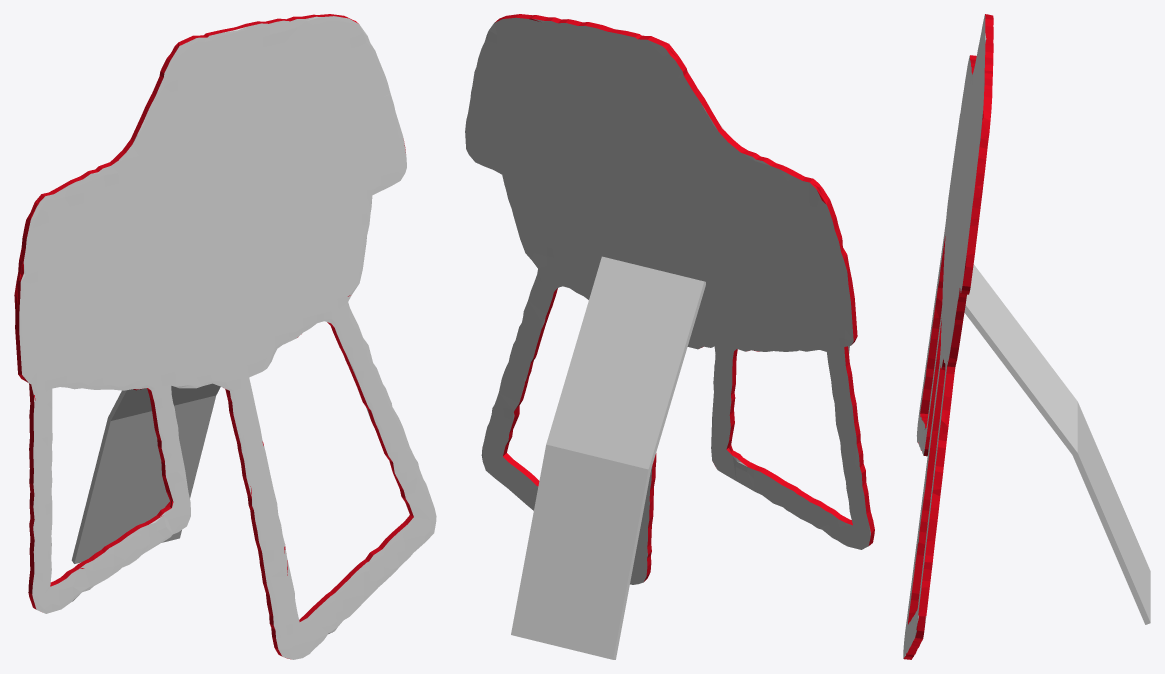
File: gray chair carboard.fbx
The picture shows the model from 3 angles, left to right: view 1: azimuth 30°, elevation 25°; view 2: azimuth 150°, elevation 25°; view 3: azimuth 270°, elevation 25°; orthographic projection. The views are drawn at different scales.
Parts seen in each view (by area): view 1: Plane, Plane.004; view 2: Plane, Plane.004; view 3: Plane, Plane.004.
Part boxes in pixels (x1,y1,x2,y2): Plane: [14, 14, 436, 659]; Plane.004: [71, 383, 220, 563]; Plane: [465, 14, 874, 584]; Plane.004: [511, 256, 705, 659]; Plane: [903, 14, 993, 659]; Plane.004: [964, 264, 1150, 624].
Size of the model in its own units: 1676 by 2411 by 889.
